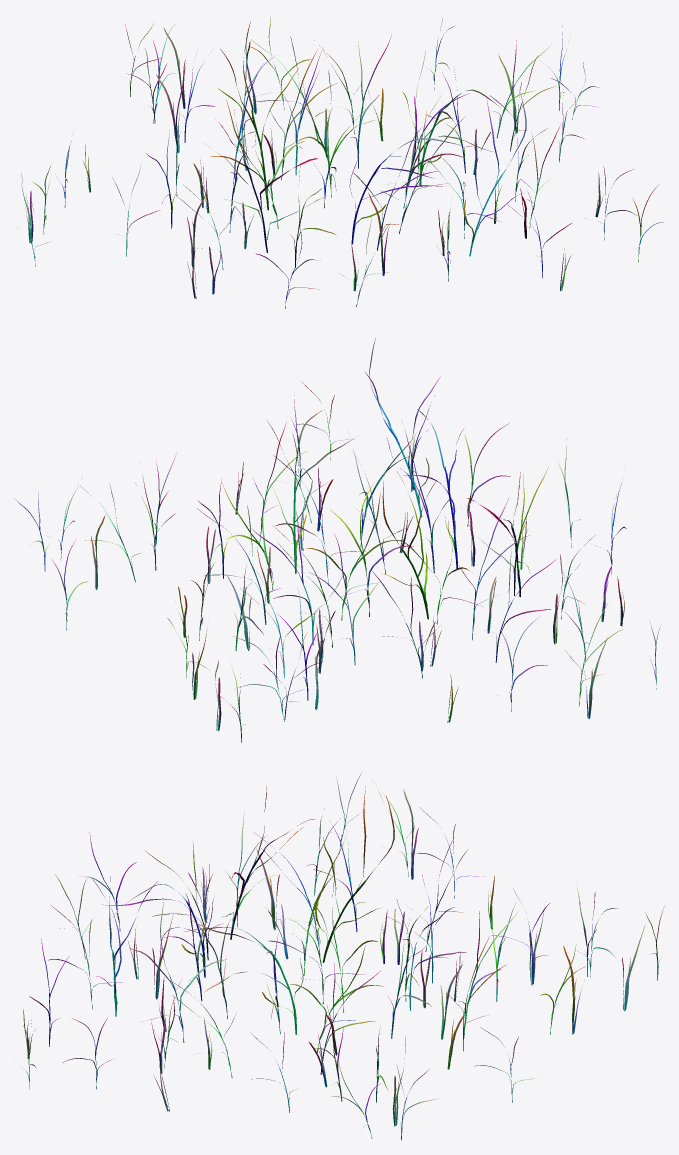
File: Kikuyu_Grass_wiljearqx_Raw_wiljearqx_VarH_LOD0.fbx
3 views of the same model, one above another, from view 1: azimuth 30°, elevation 25°; view 2: azimuth 150°, elevation 25°; view 3: azimuth 270°, elevation 25° (orthographic). The views are drawn at different scales.
Parts seen in each view (by area): view 1: _yh3i_VarH_High; view 2: _yh3i_VarH_High; view 3: _yh3i_VarH_High.
Boxes of the visible parts, x1,y1,x2,y2 form: _yh3i_VarH_High: (21, 17, 663, 308); _yh3i_VarH_High: (14, 338, 659, 742); _yh3i_VarH_High: (20, 773, 664, 1140).
Bounding box in the file's own units: 91.03 × 27.12 × 83.02.
